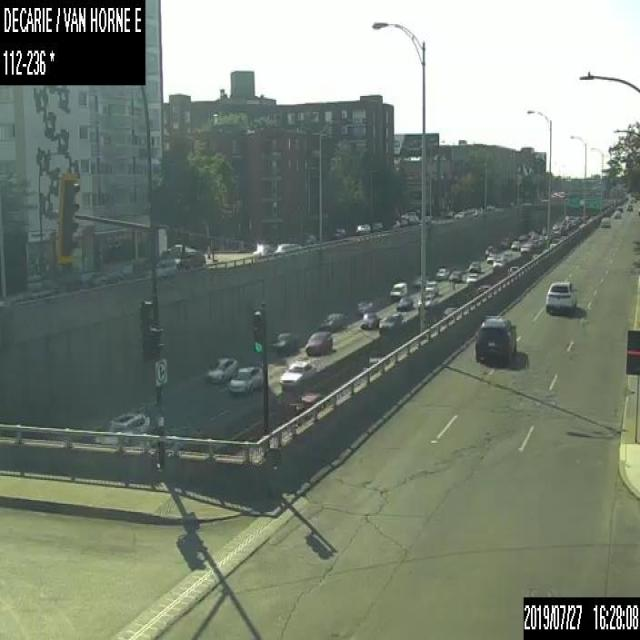vehicle: (474, 312, 516, 363), (95, 408, 150, 444), (278, 359, 314, 389), (544, 280, 576, 311), (230, 366, 261, 394), (207, 356, 237, 381), (269, 331, 299, 356), (290, 392, 320, 416), (304, 330, 331, 354), (90, 267, 122, 285), (319, 312, 346, 332), (377, 312, 403, 332), (180, 251, 204, 268), (156, 257, 175, 276), (360, 310, 378, 328), (389, 281, 407, 299), (274, 242, 298, 255), (417, 293, 436, 309), (396, 295, 412, 311), (356, 299, 372, 314), (434, 266, 450, 280), (441, 305, 458, 317), (425, 279, 438, 294), (414, 275, 427, 289), (476, 283, 490, 296), (448, 269, 461, 281), (466, 260, 480, 271), (355, 223, 370, 232), (520, 242, 531, 254), (333, 227, 345, 238), (466, 272, 478, 282), (484, 244, 494, 256), (600, 216, 610, 227), (491, 257, 502, 267), (370, 222, 382, 231), (486, 253, 496, 263), (510, 240, 520, 250), (507, 265, 519, 273), (388, 220, 399, 228), (453, 210, 464, 218), (501, 251, 509, 260), (613, 210, 620, 217), (625, 203, 632, 210), (617, 206, 622, 212)
